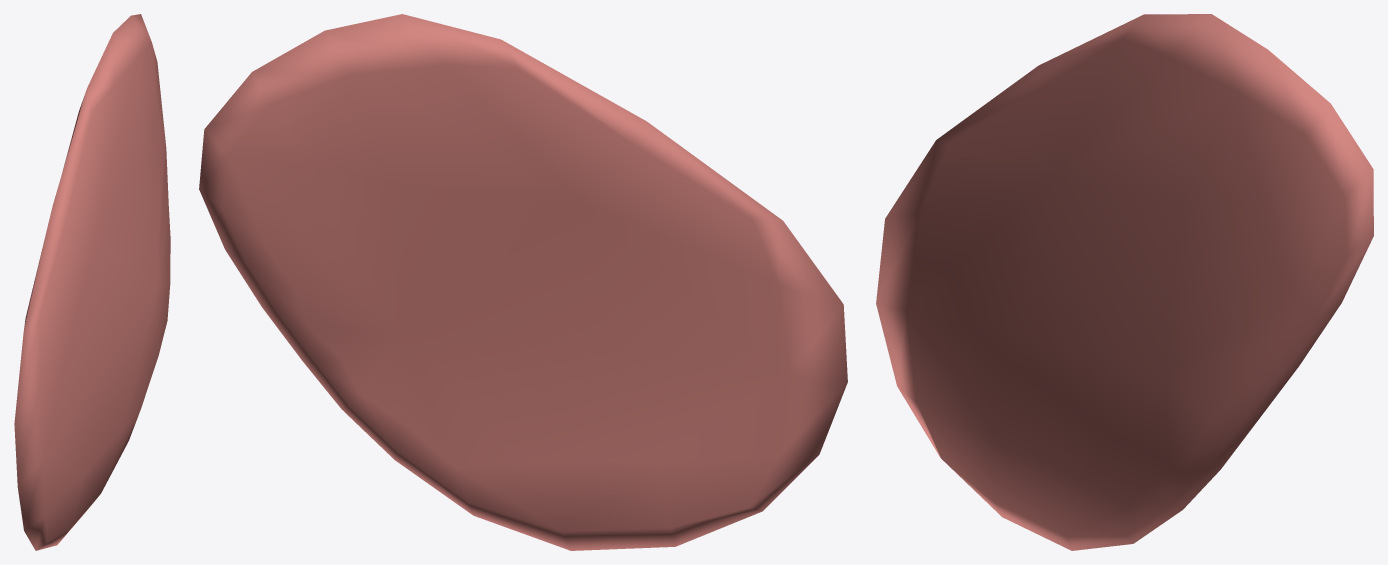
3 renders of one model, left to right at view 1: azimuth 30°, elevation 25°; view 2: azimuth 150°, elevation 25°; view 3: azimuth 270°, elevation 25°, orthographic. The views are drawn at different scales.
Visible parts, largest first — view 1: ZA_c122551d3a31c212; view 2: ZA_c122551d3a31c212; view 3: ZA_c122551d3a31c212.
Part boxes in pixels (left/top/right/bottom): ZA_c122551d3a31c212: left=14, top=14, right=170, bottom=550; ZA_c122551d3a31c212: left=199, top=14, right=847, bottom=550; ZA_c122551d3a31c212: left=876, top=14, right=1373, bottom=550.
Bounding box in the file's own units: 0.0061 × 0.00793 × 0.00604.
